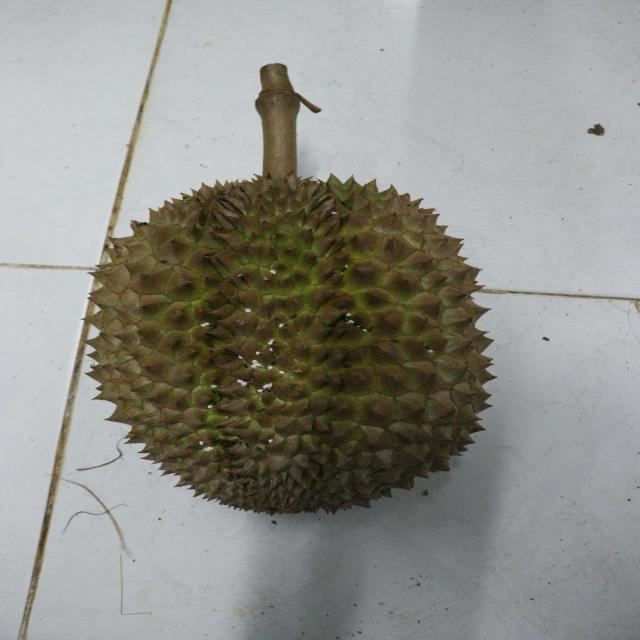mature: (80, 170, 499, 516)
